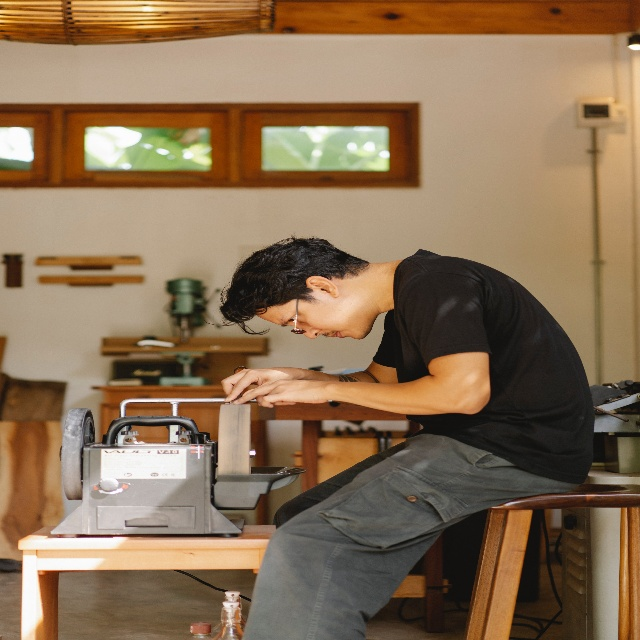Gafas: (290, 295, 306, 335)
Sin_guantes: (220, 367, 304, 405), (233, 378, 329, 409)
